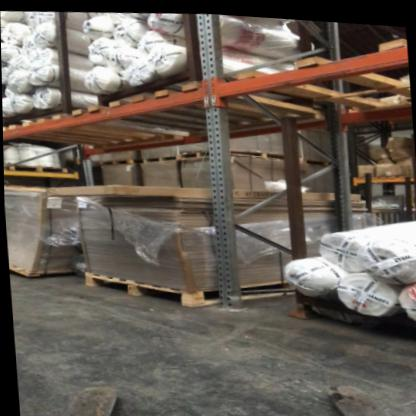vertical_damage: (212, 272, 245, 312)
